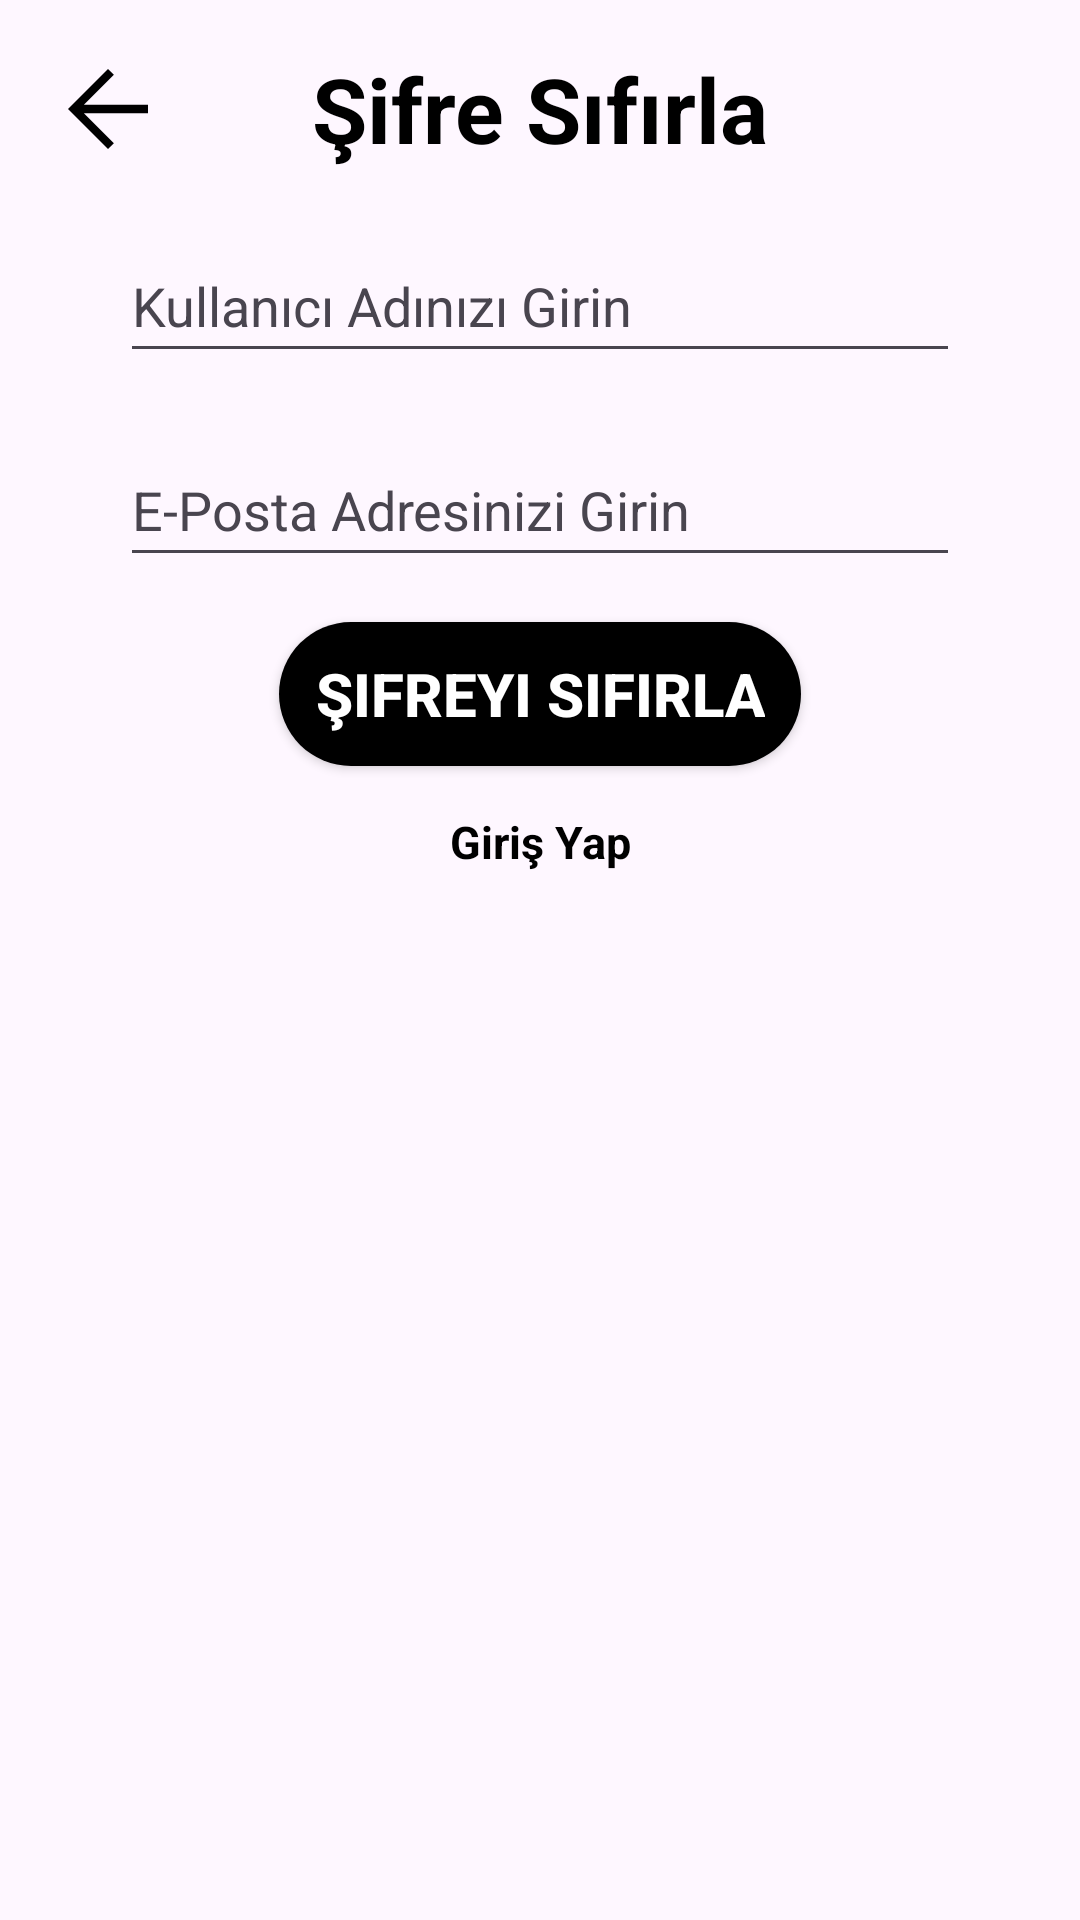

Icon bounding boxes for this 1080 x 1920 phone screenshot, format (x1, y1, x2, y2):
back: (68, 69, 148, 149)
